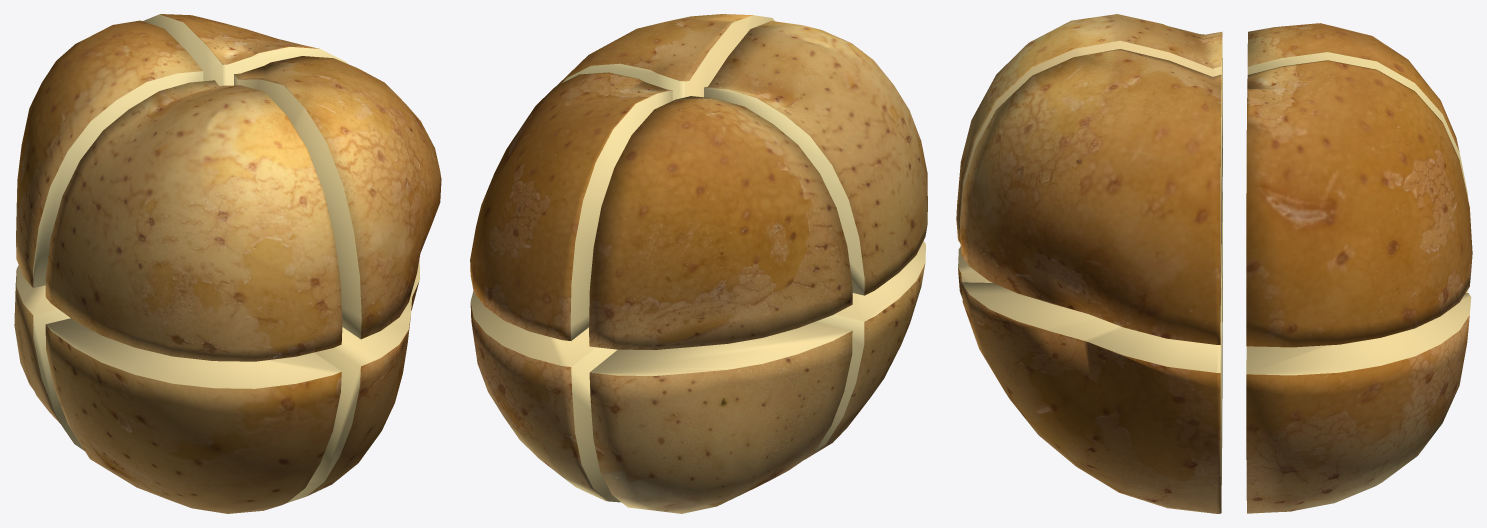
The model's file is potatoCut03.fbx.
3 renders of one model, left to right at view 1: azimuth 30°, elevation 25°; view 2: azimuth 150°, elevation 25°; view 3: azimuth 270°, elevation 25°, orthographic. The views are drawn at different scales.
Parts seen in each view (by area): view 1: potato.002, potato.004, potato.001, potato.003, potato.007, potato, potato.005; view 2: potato.003, potato.005, potato.002, potato, potato.006, potato.001, potato.004; view 3: potato.001, potato, potato.007, potato.006, potato.002, potato.003, potato.004.
Boxes of the visible parts, x1,y1,x2,y2 form: potato.002: [45, 80, 342, 361]; potato.004: [45, 318, 341, 513]; potato.001: [234, 56, 441, 339]; potato.003: [16, 20, 203, 287]; potato.007: [287, 259, 420, 502]; potato: [143, 14, 347, 85]; potato.005: [14, 265, 84, 450]; potato.003: [589, 96, 852, 349]; potato.005: [589, 321, 852, 513]; potato.002: [704, 21, 927, 295]; potato: [470, 72, 672, 340]; potato.006: [470, 291, 621, 502]; potato.001: [557, 14, 774, 100]; potato.004: [805, 241, 925, 459]; potato.001: [959, 49, 1221, 344]; potato: [1246, 60, 1472, 347]; potato.007: [961, 282, 1221, 513]; potato.006: [1246, 293, 1471, 513]; potato.002: [956, 14, 1222, 243]; potato.003: [1247, 23, 1468, 199]; potato.004: [958, 192, 1222, 484].
Size of the model in its own units: 196 by 225 by 233.
